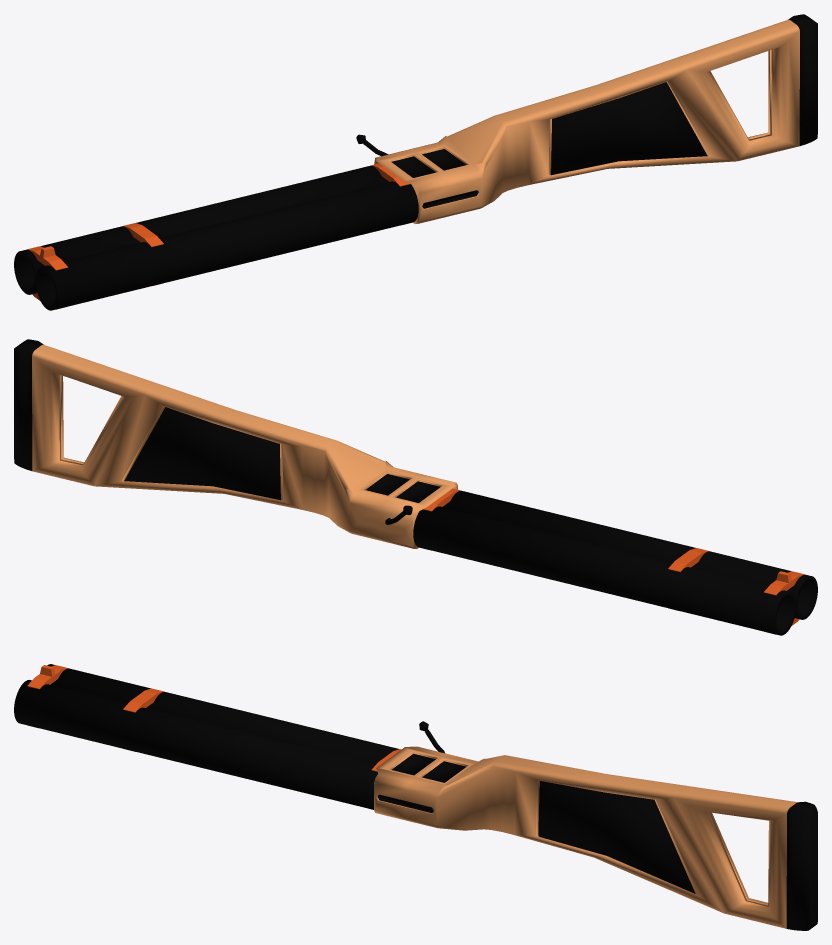
File: Spax-11.glb
The picture shows the model from 3 angles, top to bottom: view 1: azimuth 30°, elevation 25°; view 2: azimuth 150°, elevation 25°; view 3: azimuth 330°, elevation 25°; orthographic projection.
Visible parts, largest first — view 1: stock, barrel, sights and braces; view 2: stock, barrel, sights and braces; view 3: stock, barrel, sights and braces.
Boxes of the visible parts, <box> form: stock: <box>374,14,817,223</box>; barrel: <box>14,165,418,310</box>; sights and braces: <box>27,163,411,309</box>; stock: <box>14,339,457,548</box>; barrel: <box>413,490,817,635</box>; sights and braces: <box>420,488,804,634</box>; stock: <box>374,746,817,930</box>; barrel: <box>14,664,398,809</box>; sights and braces: <box>27,665,401,809</box>.
Size of the model in its own units: 3.73 by 0.5465 by 0.4676.
